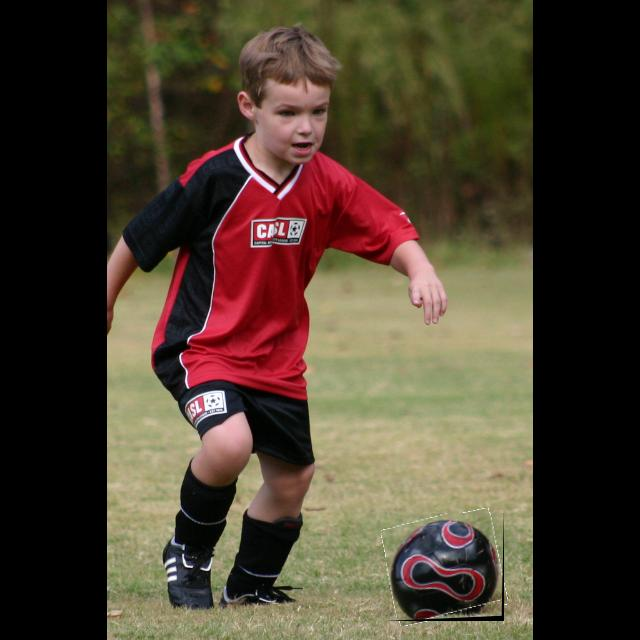Football: (386, 513, 504, 621)
